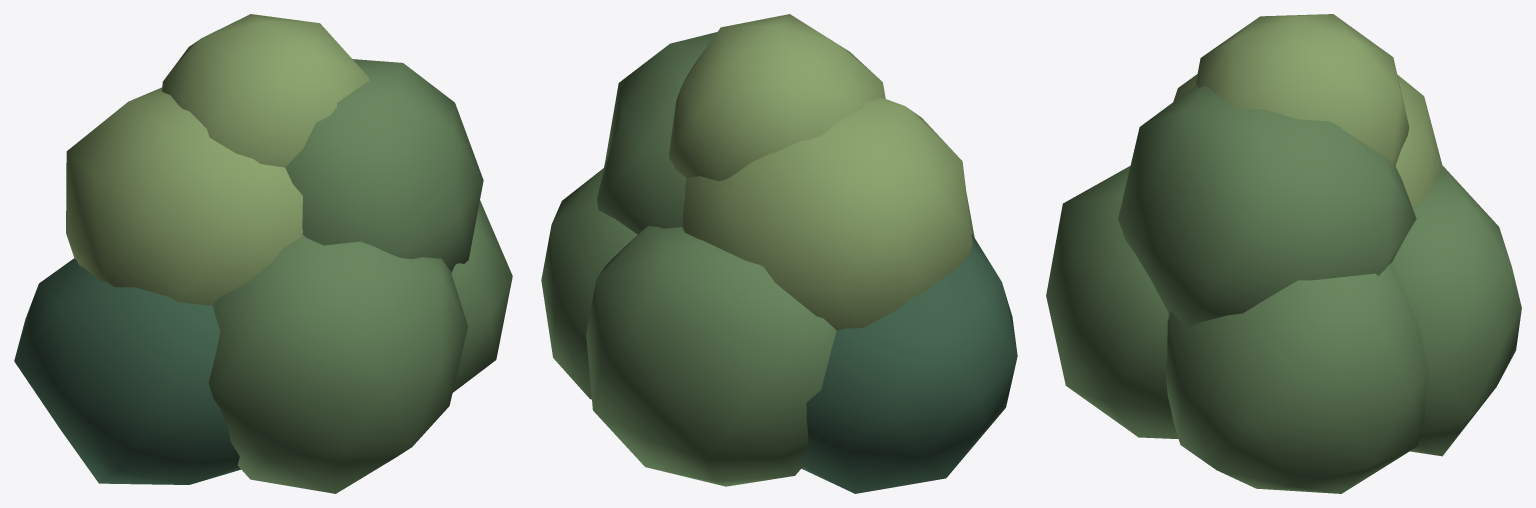
File: tree-crown.glb
The picture shows the model from 3 angles, left to right: view 1: azimuth 30°, elevation 25°; view 2: azimuth 150°, elevation 25°; view 3: azimuth 270°, elevation 25°; orthographic projection.
Parts seen in each view (by area): view 1: tree-crown_leaf, tree-crown_leaf_light, tree-crown_leaf_dark; view 2: tree-crown_leaf, tree-crown_leaf_light, tree-crown_leaf_dark; view 3: tree-crown_leaf, tree-crown_leaf_light.
Part boxes in pixels (box(x1,y1,x2,y2)): tree-crown_leaf: box(208, 59, 512, 493); tree-crown_leaf_light: box(66, 14, 369, 305); tree-crown_leaf_dark: box(14, 258, 240, 484); tree-crown_leaf: box(541, 32, 974, 486); tree-crown_leaf_light: box(669, 14, 972, 330); tree-crown_leaf_dark: box(801, 234, 1017, 493); tree-crown_leaf: box(1046, 85, 1521, 493); tree-crown_leaf_light: box(1173, 14, 1442, 207).
Bounding box in the file's own units: 3.13 × 2.88 × 2.82.
